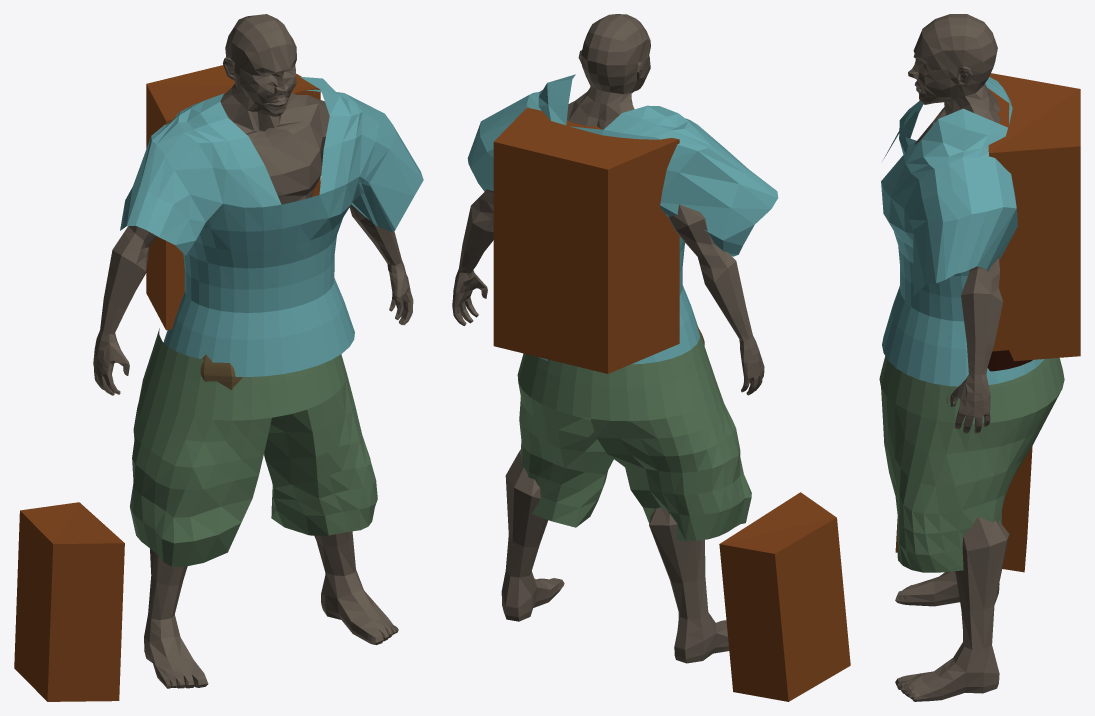
File: Migrants.glb
3 views of the same model, side by side, from view 1: azimuth 30°, elevation 25°; view 2: azimuth 150°, elevation 25°; view 3: azimuth 270°, elevation 25° (orthographic). The views are drawn at different scales.
Visible parts, largest first — view 1: Cube.001; view 2: Cube.001; view 3: Cube.001.
Boxes of the visible parts, left/top/right/bottom form: Cube.001: left=14, top=14, right=423, bottom=701; Cube.001: left=452, top=14, right=850, bottom=701; Cube.001: left=879, top=14, right=1080, bottom=701.
Bounding box in the file's own units: 1.22 × 1.91 × 0.5518.
